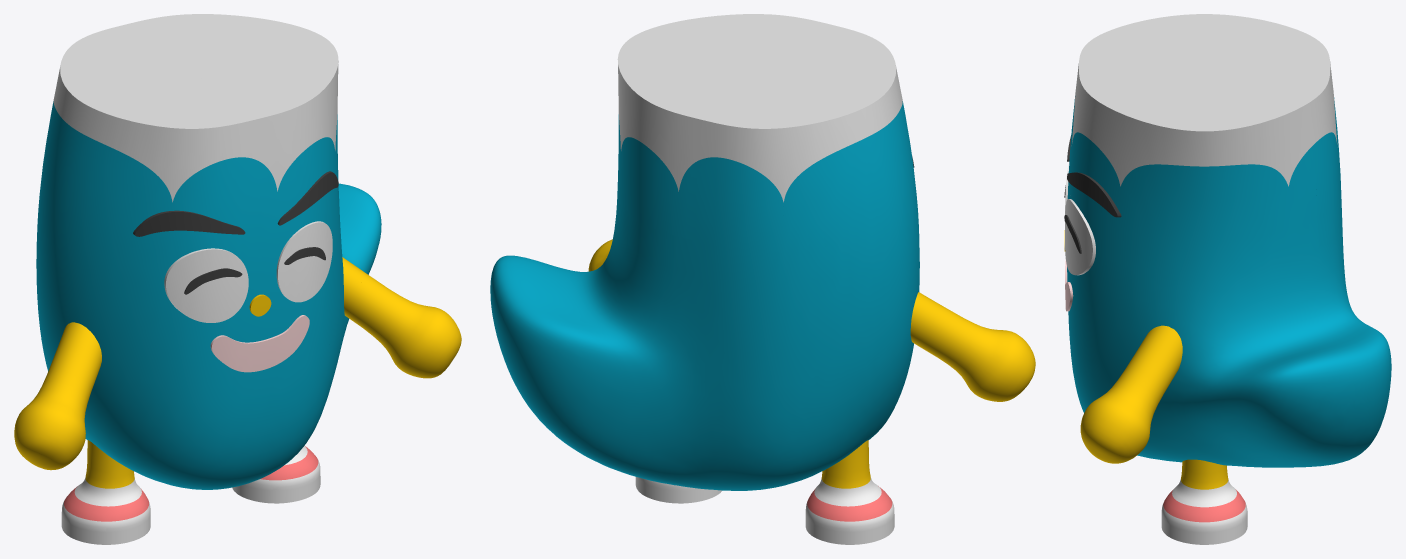
3 renders of one model, left to right at view 1: azimuth 30°, elevation 25°; view 2: azimuth 150°, elevation 25°; view 3: azimuth 270°, elevation 25°, orthographic. The views are drawn at different scales.
Visible parts, largest first — view 1: 008_ShizuokaKen; view 2: 008_ShizuokaKen; view 3: 008_ShizuokaKen.
Boxes of the visible parts, x1=… form: 008_ShizuokaKen: x1=14, y1=14, x2=461, y2=544; 008_ShizuokaKen: x1=490, y1=14, x2=1035, y2=544; 008_ShizuokaKen: x1=1064, y1=14, x2=1391, y2=544.
Bounding box in the file's own units: 0.2147 × 0.2 × 0.1414.
